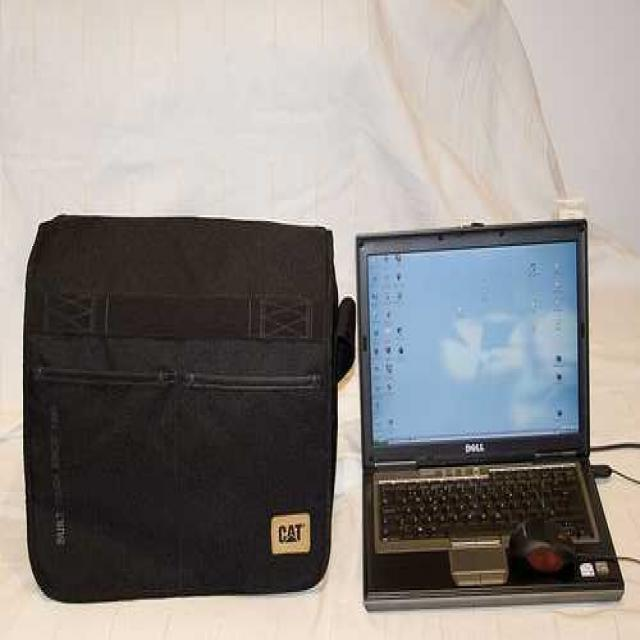laptop: (350, 223, 620, 592)
